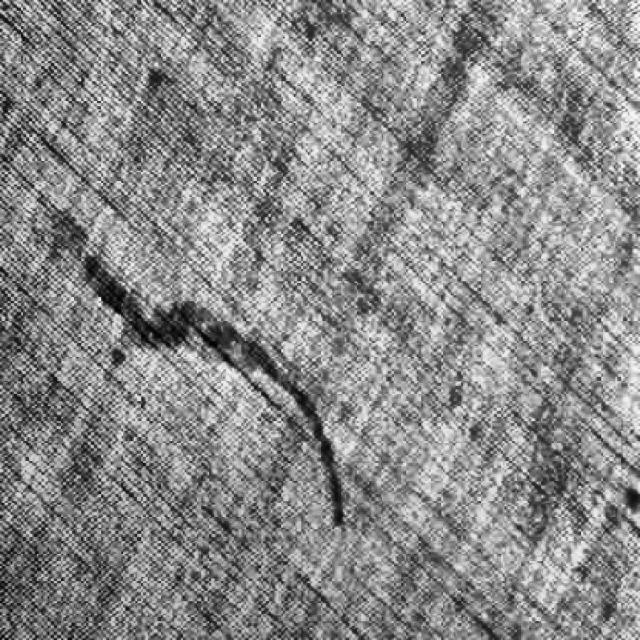oil_spot: (71, 235, 361, 535)
